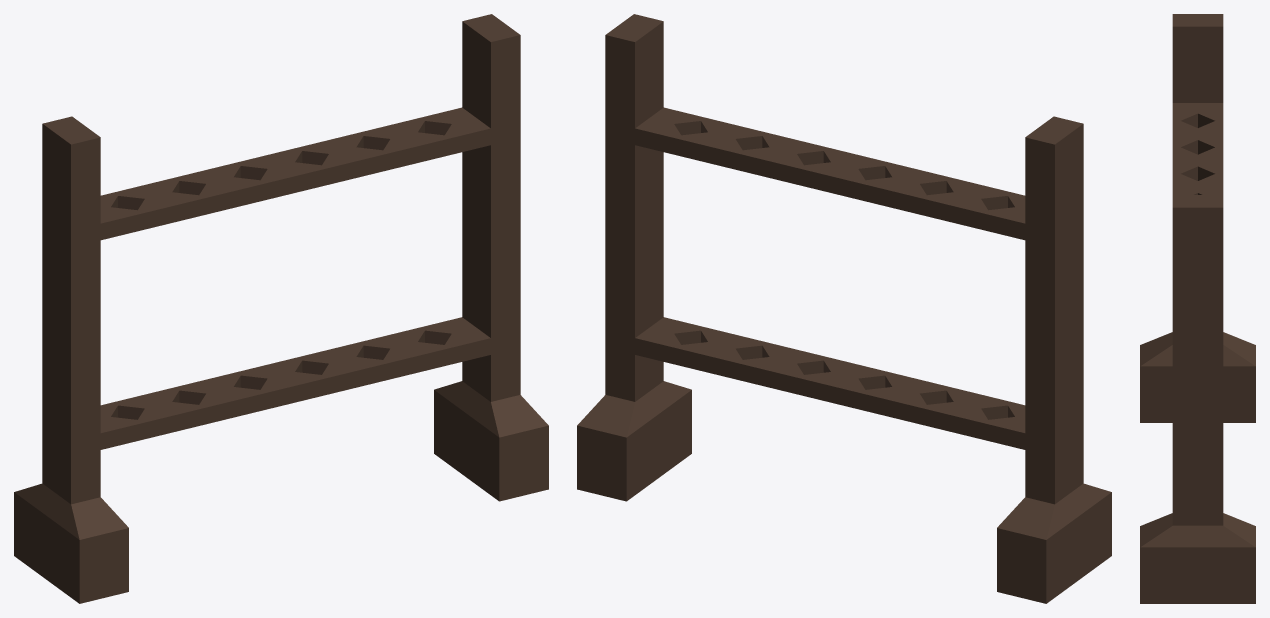
Rendered from weapon_stand.fbx.
3 views of the same model, side by side, from view 1: azimuth 30°, elevation 25°; view 2: azimuth 150°, elevation 25°; view 3: azimuth 270°, elevation 25° (orthographic). The views are drawn at different scales.
Visible parts, largest first — view 1: weapon_stand; view 2: weapon_stand; view 3: weapon_stand.
Boxes of the visible parts, x1,y1,x2,y2 form: weapon_stand: (14,14,548,603); weapon_stand: (577,14,1111,603); weapon_stand: (1140,14,1255,603).
Bounding box in the file's own units: 168 × 151 × 40.5.
